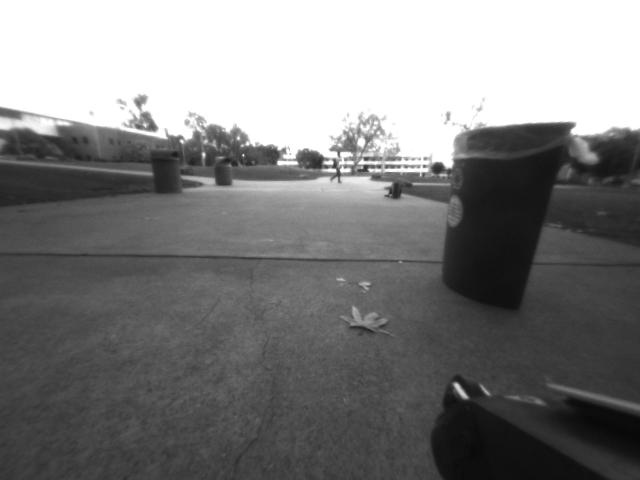trashcan_open: (443, 115, 576, 325)
